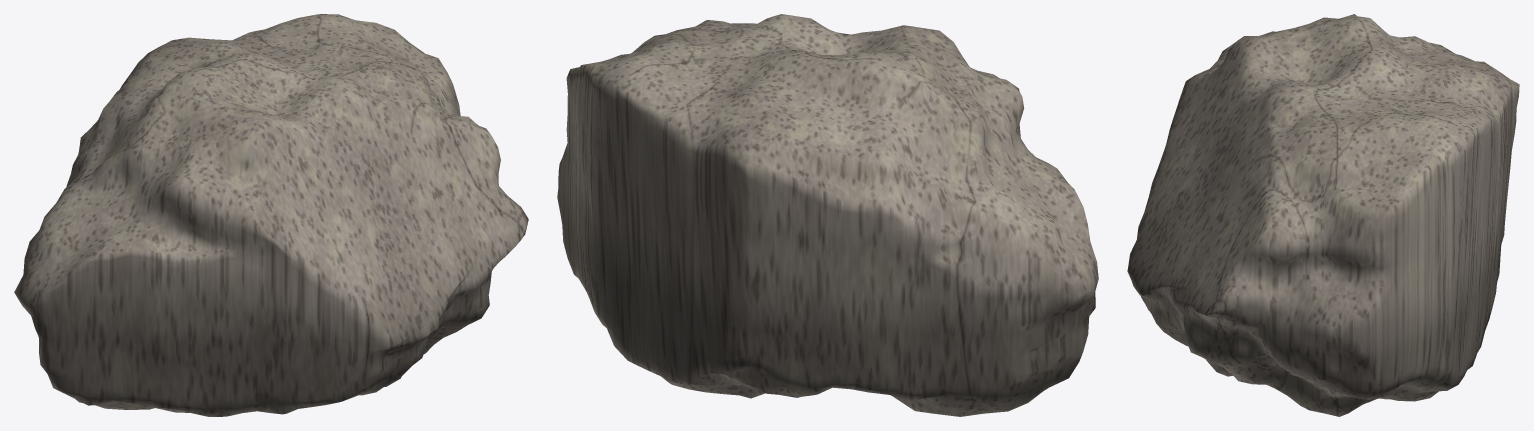
The model's file is rock-granite-0.full.glb.
3 renders of one model, left to right at view 1: azimuth 30°, elevation 25°; view 2: azimuth 150°, elevation 25°; view 3: azimuth 270°, elevation 25°, orthographic. The views are drawn at different scales.
Parts seen in each view (by area): view 1: model; view 2: model; view 3: model.
Boxes of the visible parts, x1=… form: model: x1=14, y1=14, x2=528, y2=416; model: x1=557, y1=14, x2=1098, y2=416; model: x1=1127, y1=14, x2=1519, y2=416.
Size of the model in its own units: 1 by 0.6386 by 0.7222.
Materials: 1 (1 with a texture image).
